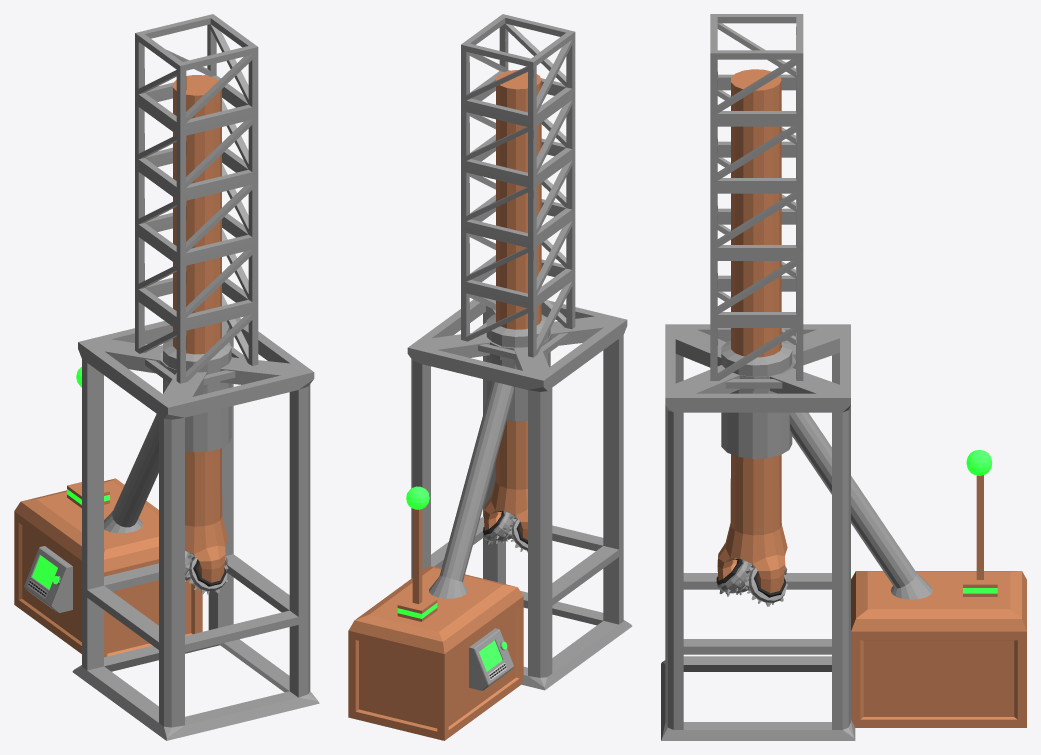
File: animforeuse.glb
3 views of the same model, side by side, from view 1: azimuth 30°, elevation 25°; view 2: azimuth 150°, elevation 25°; view 3: azimuth 270°, elevation 25° (orthographic). The views are drawn at different scales.
Visible parts, largest first — view 1: Cube.009, Cube.010, Cube, everything, Plane.001, Screen; view 2: Cube.009, Cube.010, Cube, everything, Plane.001, Screen, Cube.004; view 3: Cube.009, Cube, Cube.010, everything, Plane.001, Cube.005.
Boxes of the visible parts, x1,y1,x2,y2 form: Cube.009: (72, 317, 319, 740); Cube.010: (135, 14, 258, 384); Cube: (14, 478, 202, 657); everything: (173, 75, 227, 586); Plane.001: (104, 338, 231, 533); Screen: (24, 546, 72, 612); Cube.009: (407, 297, 632, 690); Cube.010: (461, 14, 575, 359); Cube: (348, 508, 523, 740); everything: (483, 70, 541, 544); Plane.001: (429, 314, 550, 598); Screen: (469, 628, 513, 690); Cube.004: (483, 511, 515, 544); Cube.009: (661, 324, 855, 740); Cube: (851, 475, 1026, 727); Cube.010: (710, 14, 803, 388); everything: (716, 69, 787, 597); Plane.001: (721, 340, 932, 599); Cube.005: (717, 560, 752, 596).
Size of the model in its own units: 2.56 by 10.35 by 5.13.
